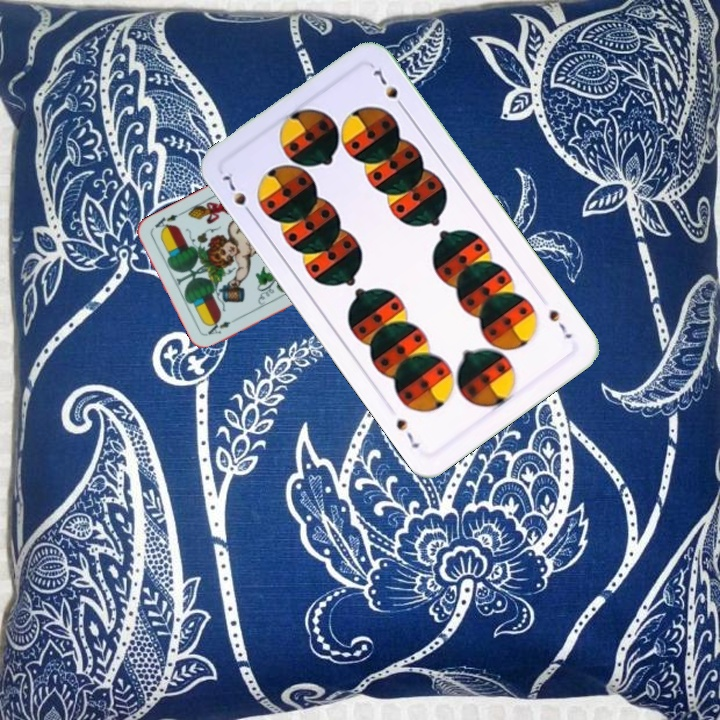EA: (203, 317, 233, 337)
S7: (216, 167, 257, 220), (545, 304, 575, 342)
